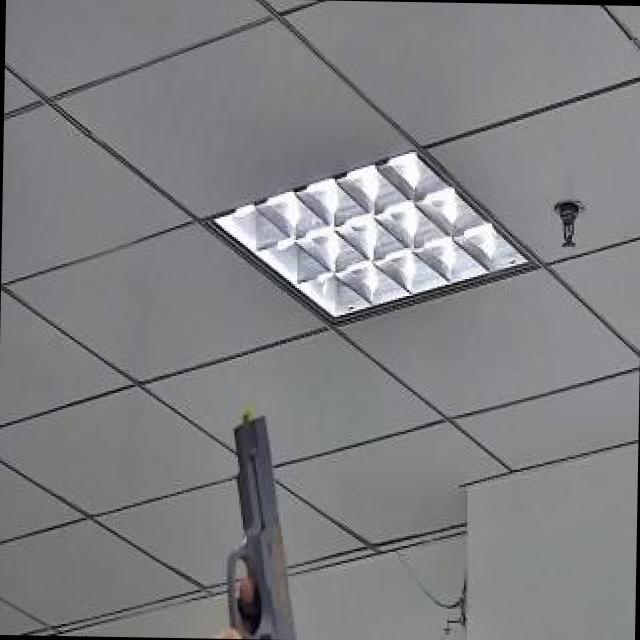Guns: (178, 373, 343, 640)
